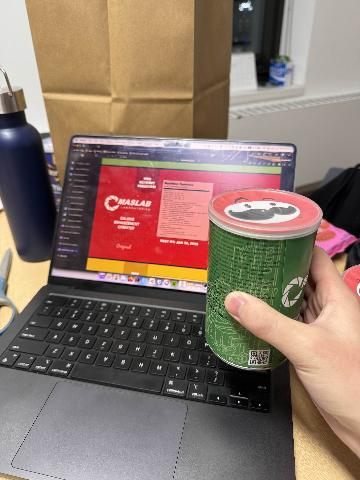Green Can: (206, 189, 321, 369)
